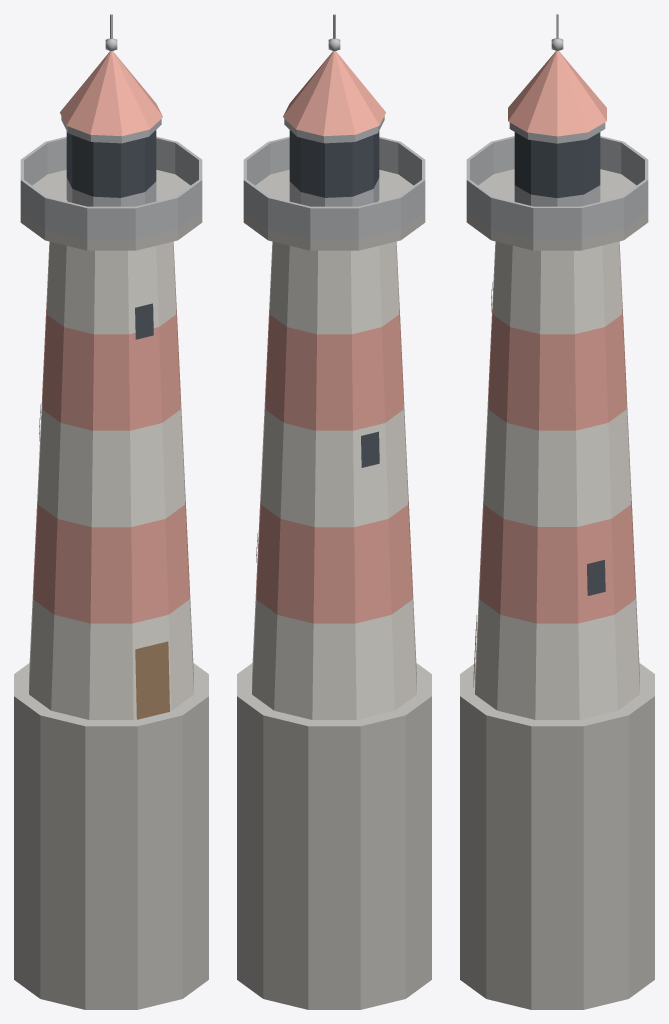
The model's file is lighthouse_s.glb.
3 views of the same model, side by side, from view 1: azimuth 30°, elevation 25°; view 2: azimuth 150°, elevation 25°; view 3: azimuth 270°, elevation 25° (orthographic).
Visible parts, largest first — view 1: lighthouse_s; view 2: lighthouse_s; view 3: lighthouse_s.
Boxes of the visible parts, left/top/right/bottom form: lighthouse_s: left=14, top=14, right=208, bottom=1009; lighthouse_s: left=237, top=14, right=431, bottom=1009; lighthouse_s: left=460, top=14, right=654, bottom=1009.
Bounding box in the file's own units: 5.6 × 30.27 × 5.6.
